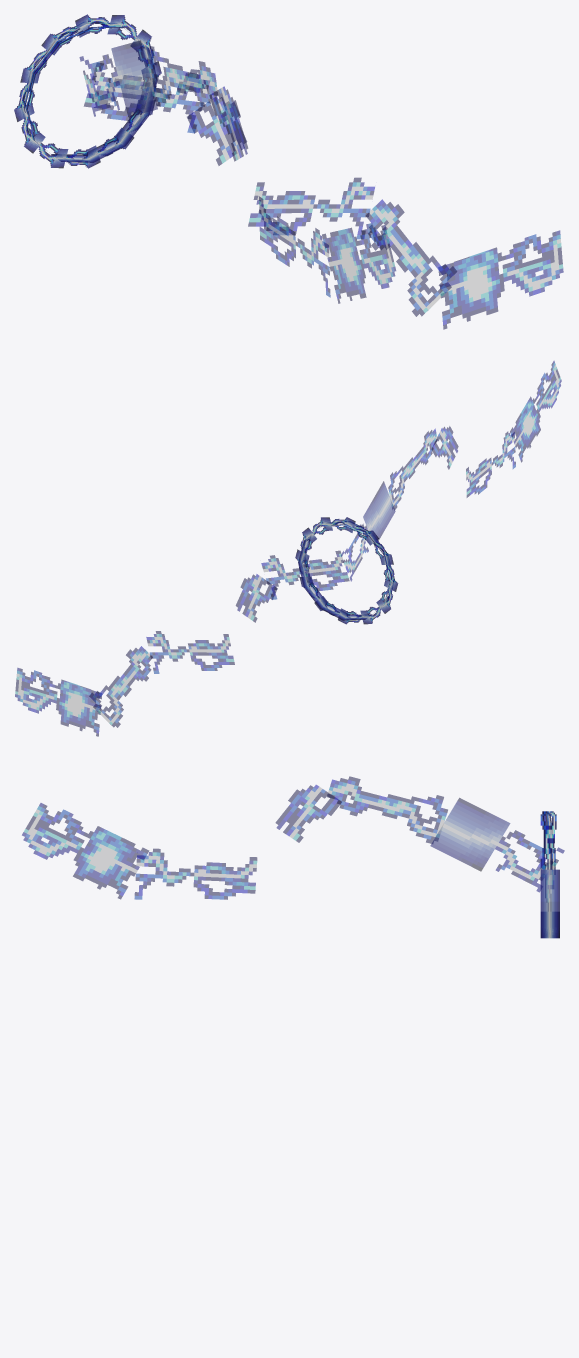
File: 67_efe.gltf
3 renders of one model, top to bottom at view 1: azimuth 30°, elevation 25°; view 2: azimuth 150°, elevation 25°; view 3: azimuth 270°, elevation 25°, orthographic. The views are drawn at different scales.
Size of the model in its own units: 857 by 673 by 866.
Materials: 1 (1 with a texture image).
